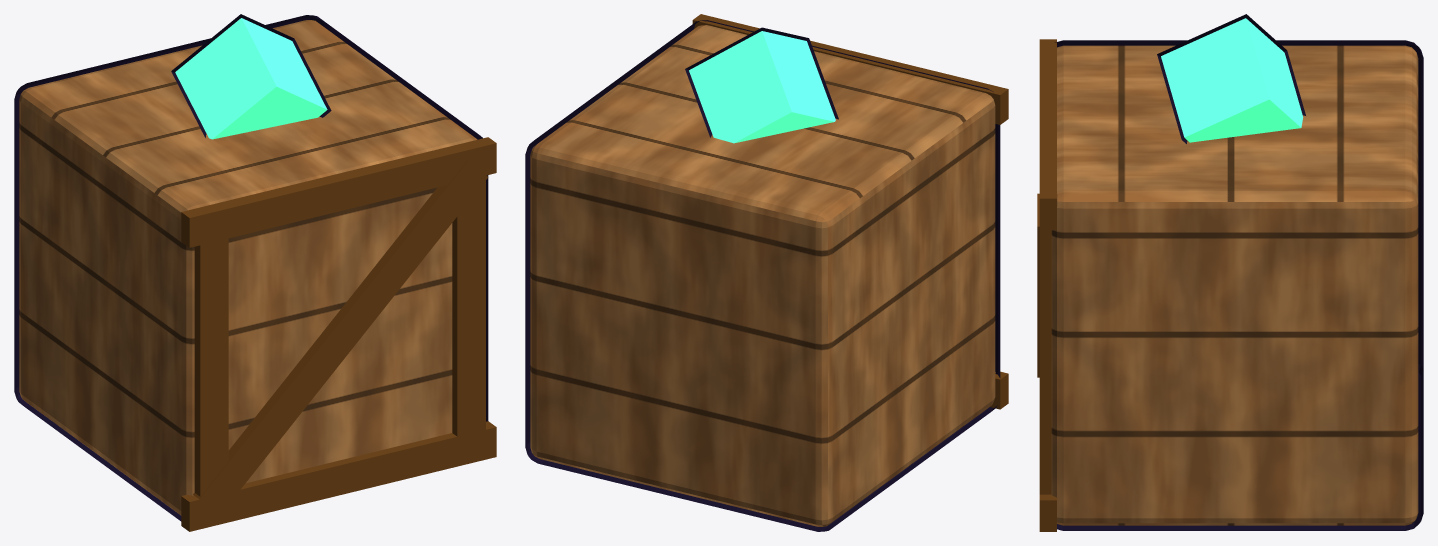
Rendered from crate.glb.
3 renders of one model, left to right at view 1: azimuth 30°, elevation 25°; view 2: azimuth 150°, elevation 25°; view 3: azimuth 270°, elevation 25°, orthographic. The views are drawn at different scales.
Visible parts, largest first — view 1: crate.001; view 2: crate.001; view 3: crate.001.
Part boxes in pixels (x1=…): crate.001: x1=14, y1=14, x2=496, y2=531; crate.001: x1=525, y1=14, x2=1008, y2=531; crate.001: x1=1037, y1=14, x2=1423, y2=531.
Bounding box in the file's own units: 0.8636 × 1.11 × 0.8818.
4 materials, 1 textured.
